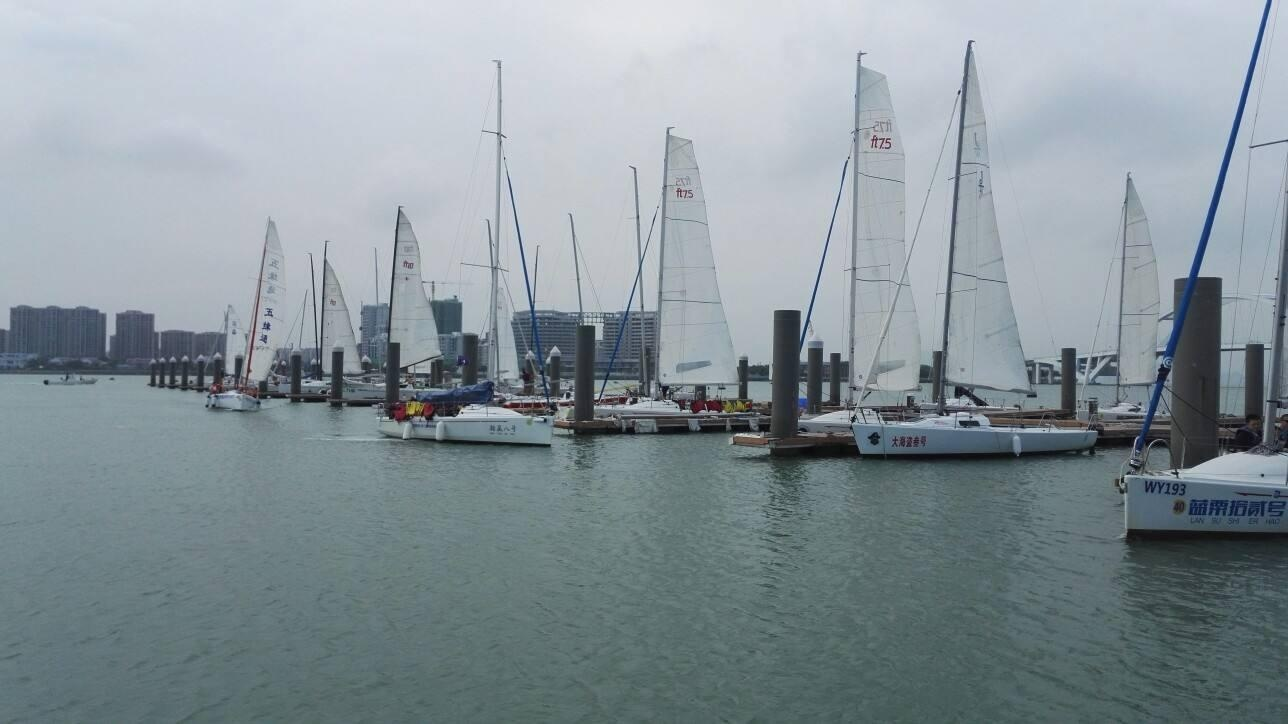fanchuan: (851, 39, 1070, 465), (615, 121, 791, 444), (206, 211, 306, 415)
